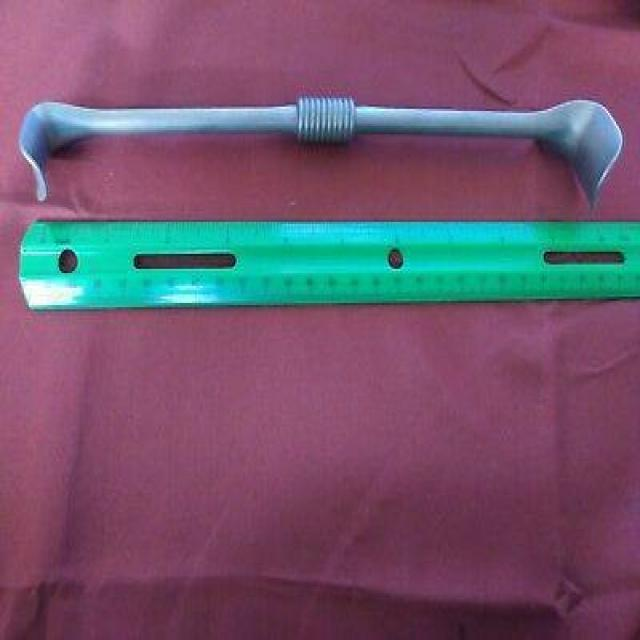Richardson: (14, 85, 626, 209)
